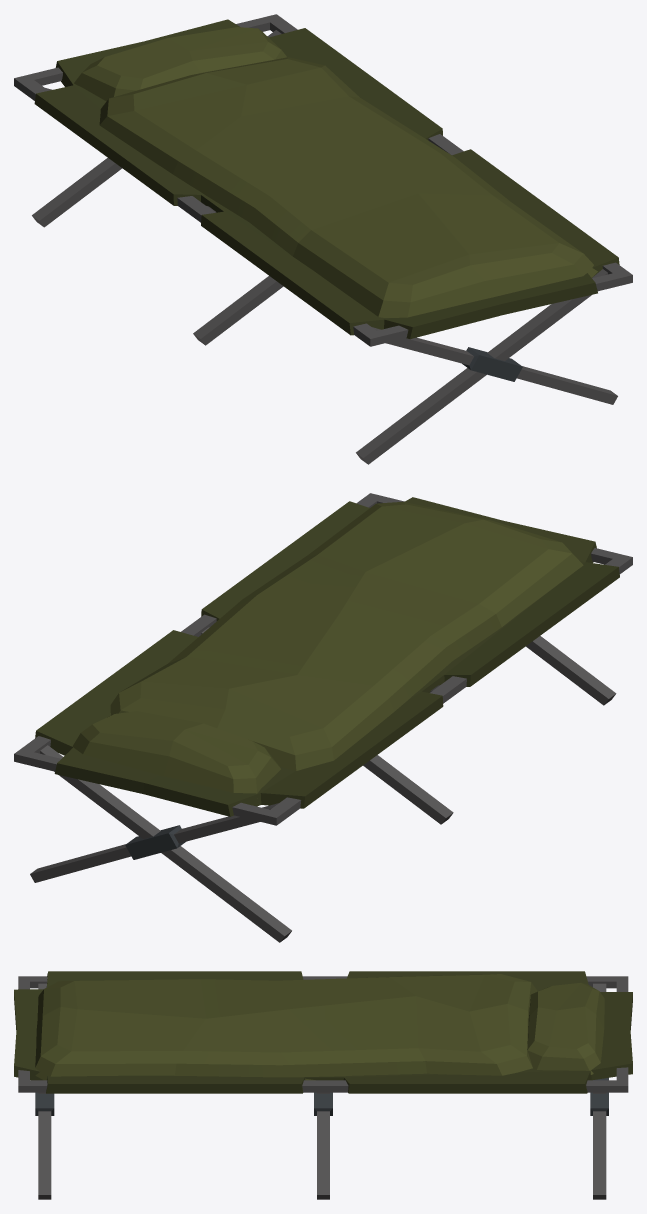
The model's file is SM_Prop_Bed_Stretcher_02.fbx.
3 views of the same model, one above another, from view 1: azimuth 30°, elevation 25°; view 2: azimuth 150°, elevation 25°; view 3: azimuth 270°, elevation 25° (orthographic). The views are drawn at different scales.
Visible parts, largest first — view 1: SM_Prop_Bed_Stretcher_02; view 2: SM_Prop_Bed_Stretcher_02; view 3: SM_Prop_Bed_Stretcher_02.
Boxes of the visible parts, left/top/right/bottom form: SM_Prop_Bed_Stretcher_02: left=14, top=14, right=632, bottom=464; SM_Prop_Bed_Stretcher_02: left=14, top=493, right=632, bottom=942; SM_Prop_Bed_Stretcher_02: left=14, top=971, right=632, bottom=1199.
Size of the model in its own units: 104 by 60.72 by 243.
